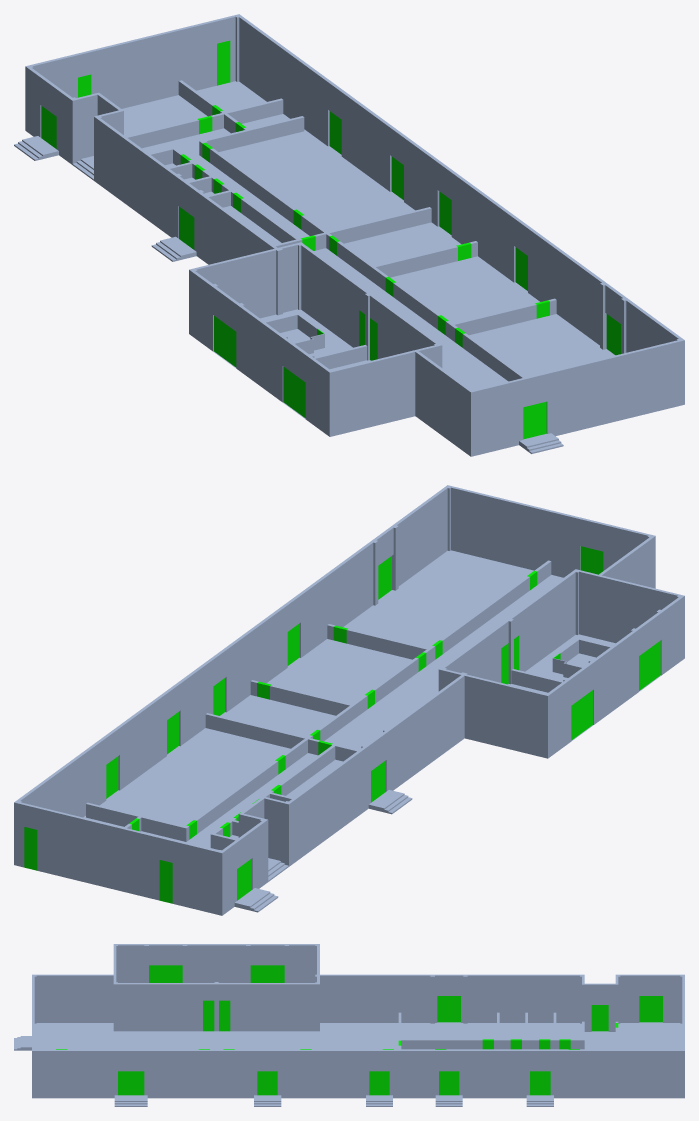
Rendered from 35kV_Substation_expansion.glb.
3 renders of one model, top to bottom at view 1: azimuth 30°, elevation 25°; view 2: azimuth 150°, elevation 25°; view 3: azimuth 270°, elevation 25°, orthographic. The views are drawn at different scales.
Visible parts, largest first — view 1: Floor1; view 2: Floor1; view 3: Floor1.
Part boxes in pixels (left/top/right/bottom): Floor1: left=14, top=14, right=684, bottom=456; Floor1: left=14, top=485, right=684, bottom=915; Floor1: left=14, top=944, right=684, bottom=1106.
Bounding box in the file's own units: 24.2 × 4.6 × 59.32.
